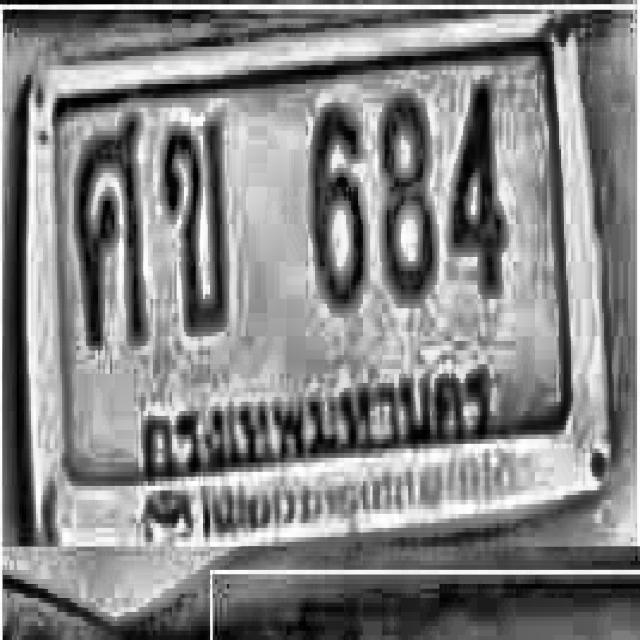license-plate: (19, 14, 618, 549)
